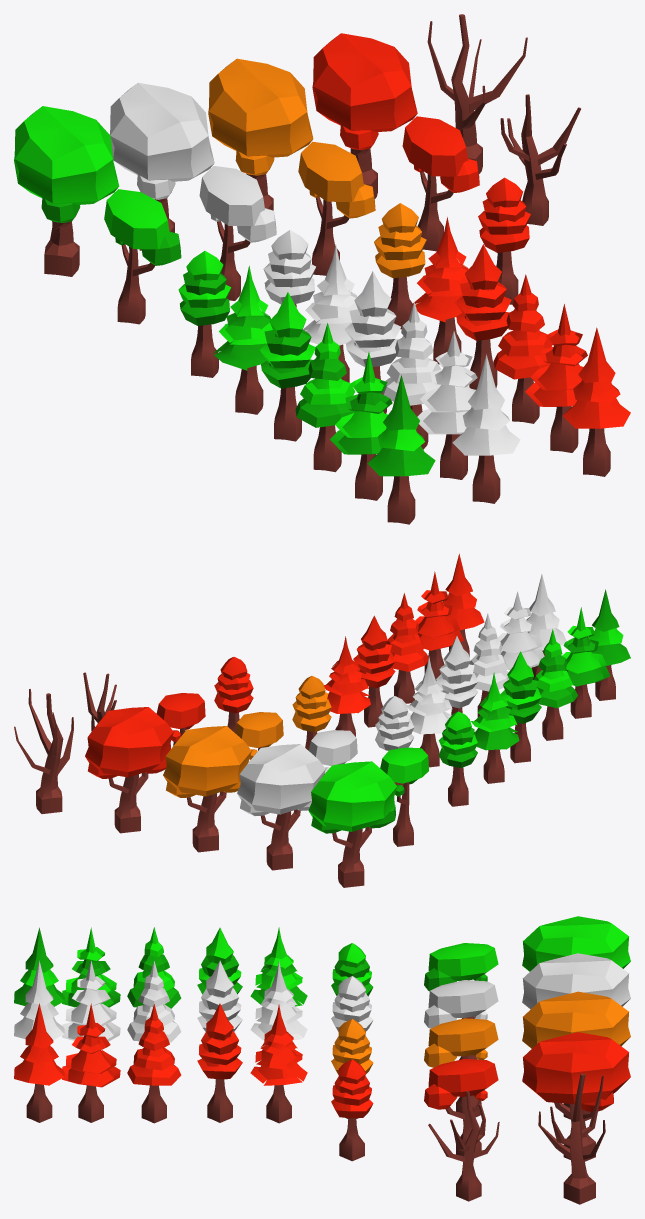
File: toon tree aset.fbx
3 views of the same model, one above another, from view 1: azimuth 30°, elevation 25°; view 2: azimuth 150°, elevation 25°; view 3: azimuth 270°, elevation 25° (orthographic). The views are drawn at different scales.
Parts seen in each view (by area): view 1: Cylinder.016, Cylinder.029, Cylinder.026, Cylinder.024, Cylinder.009, Cylinder.028, Cylinder.025, Cylinder.023, Cylinder.006, Cylinder.011, Cylinder, Cylinder.019 (+17 smaller); view 2: Cylinder.016, Cylinder.029, Cylinder.026, Cylinder.024, Cylinder.021, Cylinder.004, Cylinder.019, Cylinder.031, Cylinder.006, Cylinder.005, Cylinder.014, Cylinder.020 (+17 smaller); view 3: Cylinder.029, Cylinder.026, Cylinder.024, Cylinder.016, Cylinder.018, Cylinder.028, Cylinder.007, Cylinder.005, Cylinder.020, Cylinder.031, Cylinder.025, Cylinder.017 (+17 smaller).
Boxes of the visible parts, x1,y1,x2,y2 form: Cylinder.016: (14, 106, 119, 276); Cylinder.029: (312, 33, 417, 198); Cylinder.026: (208, 58, 313, 210); Cylinder.024: (109, 82, 214, 250); Cylinder.009: (104, 189, 181, 324); Cylinder.028: (402, 116, 479, 251); Cylinder.025: (298, 141, 375, 275); Cylinder.023: (199, 166, 276, 300); Cylinder.006: (260, 292, 315, 441); Cylinder.011: (417, 331, 477, 479); Cylinder: (367, 375, 435, 524); Cylinder.019: (295, 323, 355, 472); Cylinder.016: (308, 761, 396, 887); Cylinder.029: (85, 707, 173, 833); Cylinder.026: (163, 726, 251, 852); Cylinder.024: (237, 744, 325, 870); Cylinder.021: (471, 672, 519, 783); Cylinder.004: (562, 607, 610, 718); Cylinder.019: (533, 629, 577, 740); Cylinder.031: (14, 689, 73, 813); Cylinder.006: (500, 651, 541, 763); Cylinder.005: (386, 593, 428, 703); Cylinder.014: (406, 656, 452, 767); Cylinder.020: (353, 615, 395, 727); Cylinder.029: (522, 1032, 630, 1161); Cylinder.026: (522, 991, 630, 1120); Cylinder.024: (522, 953, 630, 1009); Cylinder.016: (522, 916, 630, 971); Cylinder.018: (62, 1003, 120, 1122); Cylinder.028: (424, 1058, 498, 1155); Cylinder.007: (250, 1004, 307, 1123); Cylinder.005: (127, 1004, 181, 1123); Cylinder.020: (197, 1003, 242, 1122); Cylinder.031: (538, 1073, 605, 1204); Cylinder.025: (424, 1018, 498, 1117); Cylinder.017: (14, 1003, 64, 1122).
Bounding box in the file's own units: 3548 × 1064 × 4819.
